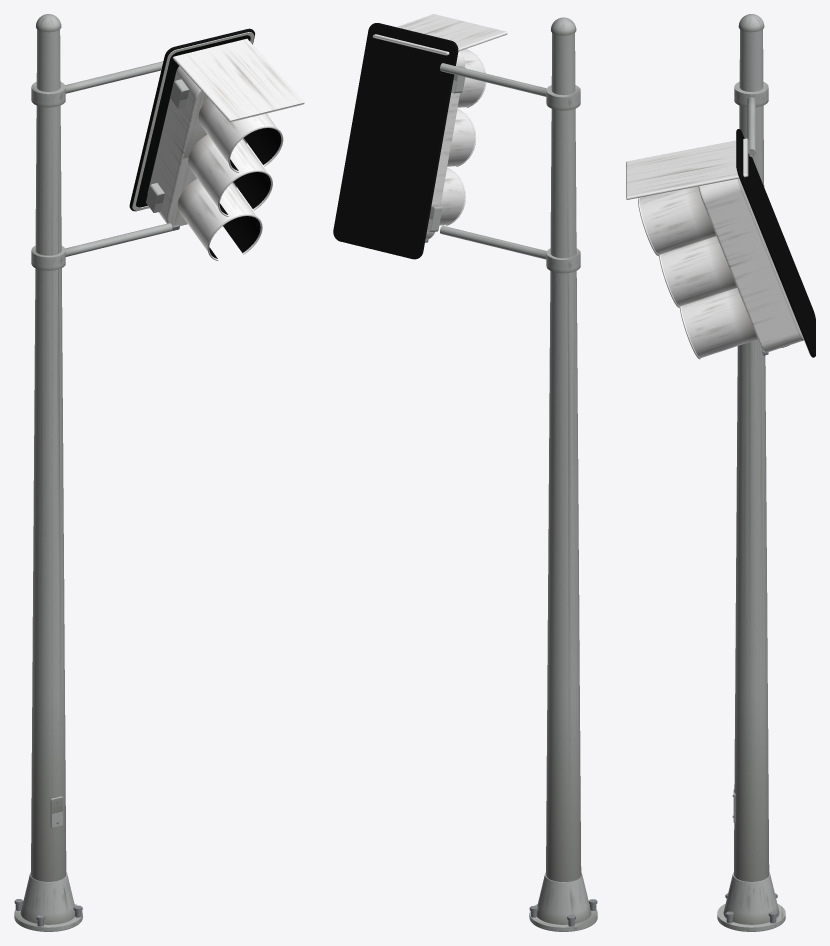
3 views of the same model, side by side, from view 1: azimuth 30°, elevation 25°; view 2: azimuth 150°, elevation 25°; view 3: azimuth 270°, elevation 25° (orthographic).
Parts seen in each view (by area): view 1: jp-veh-v-snow, opt_snow_on, opt_backplate_on; view 2: jp-veh-v-snow, opt_backplate_on, opt_snow_on; view 3: jp-veh-v-snow, opt_snow_on, opt_backplate_on.
Part boxes in pixels (x1,y1,x2,y2): jp-veh-v-snow: (14, 14, 283, 931); opt_snow_on: (172, 38, 304, 122); opt_backplate_on: (129, 28, 254, 211); jp-veh-v-snow: (425, 17, 597, 931); opt_backplate_on: (333, 23, 458, 259); opt_snow_on: (372, 14, 507, 55); jp-veh-v-snow: (638, 14, 803, 931); opt_snow_on: (626, 138, 748, 199); opt_backplate_on: (736, 129, 815, 357).
Size of the model in its own units: 1.62 by 6.08 by 1.16.
Materials: 16 (3 with a texture image).
